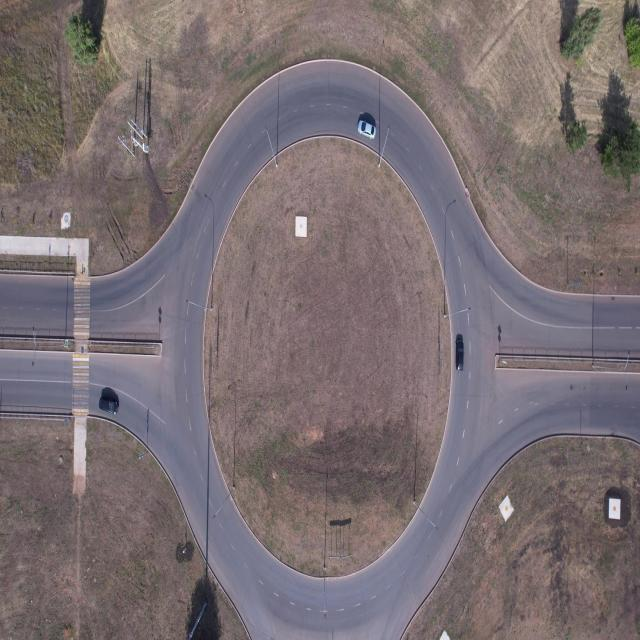Car: (357, 119, 377, 141), (99, 396, 118, 416), (455, 340, 465, 371)
